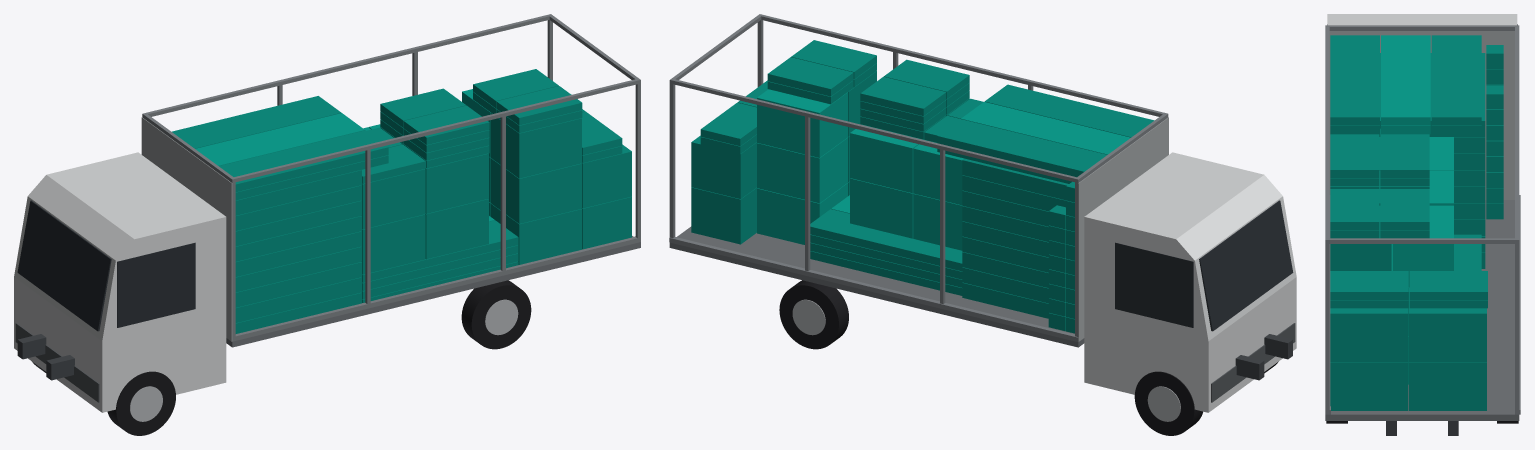
Rendered from caminhao-CG09.glb.
3 views of the same model, side by side, from view 1: azimuth 30°, elevation 25°; view 2: azimuth 150°, elevation 25°; view 3: azimuth 270°, elevation 25° (orthographic). The views are drawn at different scales.
Visible parts, largest first — view 1: cabine, part21, janela, frente, part77, part79, part52, part53, part54, part75, part13, part73 (+43 smaller); view 2: cabine, piso, part21, janela, part54, frente, part80, part78, part52, part53, part66, part74 (+42 smaller); view 3: piso, part54, part52, part53, part83, part84, part81, part82, frente, part80, cabine, part101 (+43 smaller).
Boxes of the visible parts, left/top/right/bottom form: cabine: left=14, top=152, right=226, bottom=412; part21: left=17, top=200, right=111, bottom=331; janela: left=117, top=242, right=195, bottom=327; frente: left=141, top=117, right=232, bottom=341; part77: left=490, top=158, right=581, bottom=223; part79: left=490, top=113, right=581, bottom=178; part52: left=219, top=130, right=388, bottom=191; part53: left=195, top=113, right=364, bottom=165; part54: left=172, top=96, right=341, bottom=148; part75: left=490, top=203, right=581, bottom=264; part13: left=233, top=236, right=640, bottom=340; part73: left=425, top=153, right=488, bottom=213; cabine: left=1084, top=152, right=1296, bottom=412; piso: left=669, top=226, right=1084, bottom=347; part21: left=1199, top=200, right=1293, bottom=331; janela: left=1115, top=242, right=1193, bottom=327; part54: left=937, top=119, right=1106, bottom=177; frente: left=1078, top=117, right=1168, bottom=341; part80: left=757, top=89, right=847, bottom=157; part78: left=757, top=137, right=847, bottom=203; part52: left=984, top=84, right=1154, bottom=137; part53: left=961, top=102, right=1130, bottom=154; part66: left=810, top=209, right=962, bottom=271; part74: left=850, top=124, right=924, bottom=193; piso: left=1325, top=200, right=1519, bottom=420; part54: left=1431, top=35, right=1481, bottom=125; part52: left=1330, top=35, right=1379, bottom=125; part53: left=1381, top=35, right=1430, bottom=125; part83: left=1330, top=308, right=1408, bottom=362; part84: left=1409, top=288, right=1486, bottom=362; part81: left=1330, top=362, right=1408, bottom=410; part82: left=1409, top=362, right=1486, bottom=410; frente: left=1329, top=31, right=1514, bottom=199; part80: left=1392, top=205, right=1453, bottom=286; cabine: left=1327, top=14, right=1517, bottom=25; part101: left=1330, top=271, right=1408, bottom=299.
Size of the model in its own units: 9.04 by 3.61 by 2.53.
